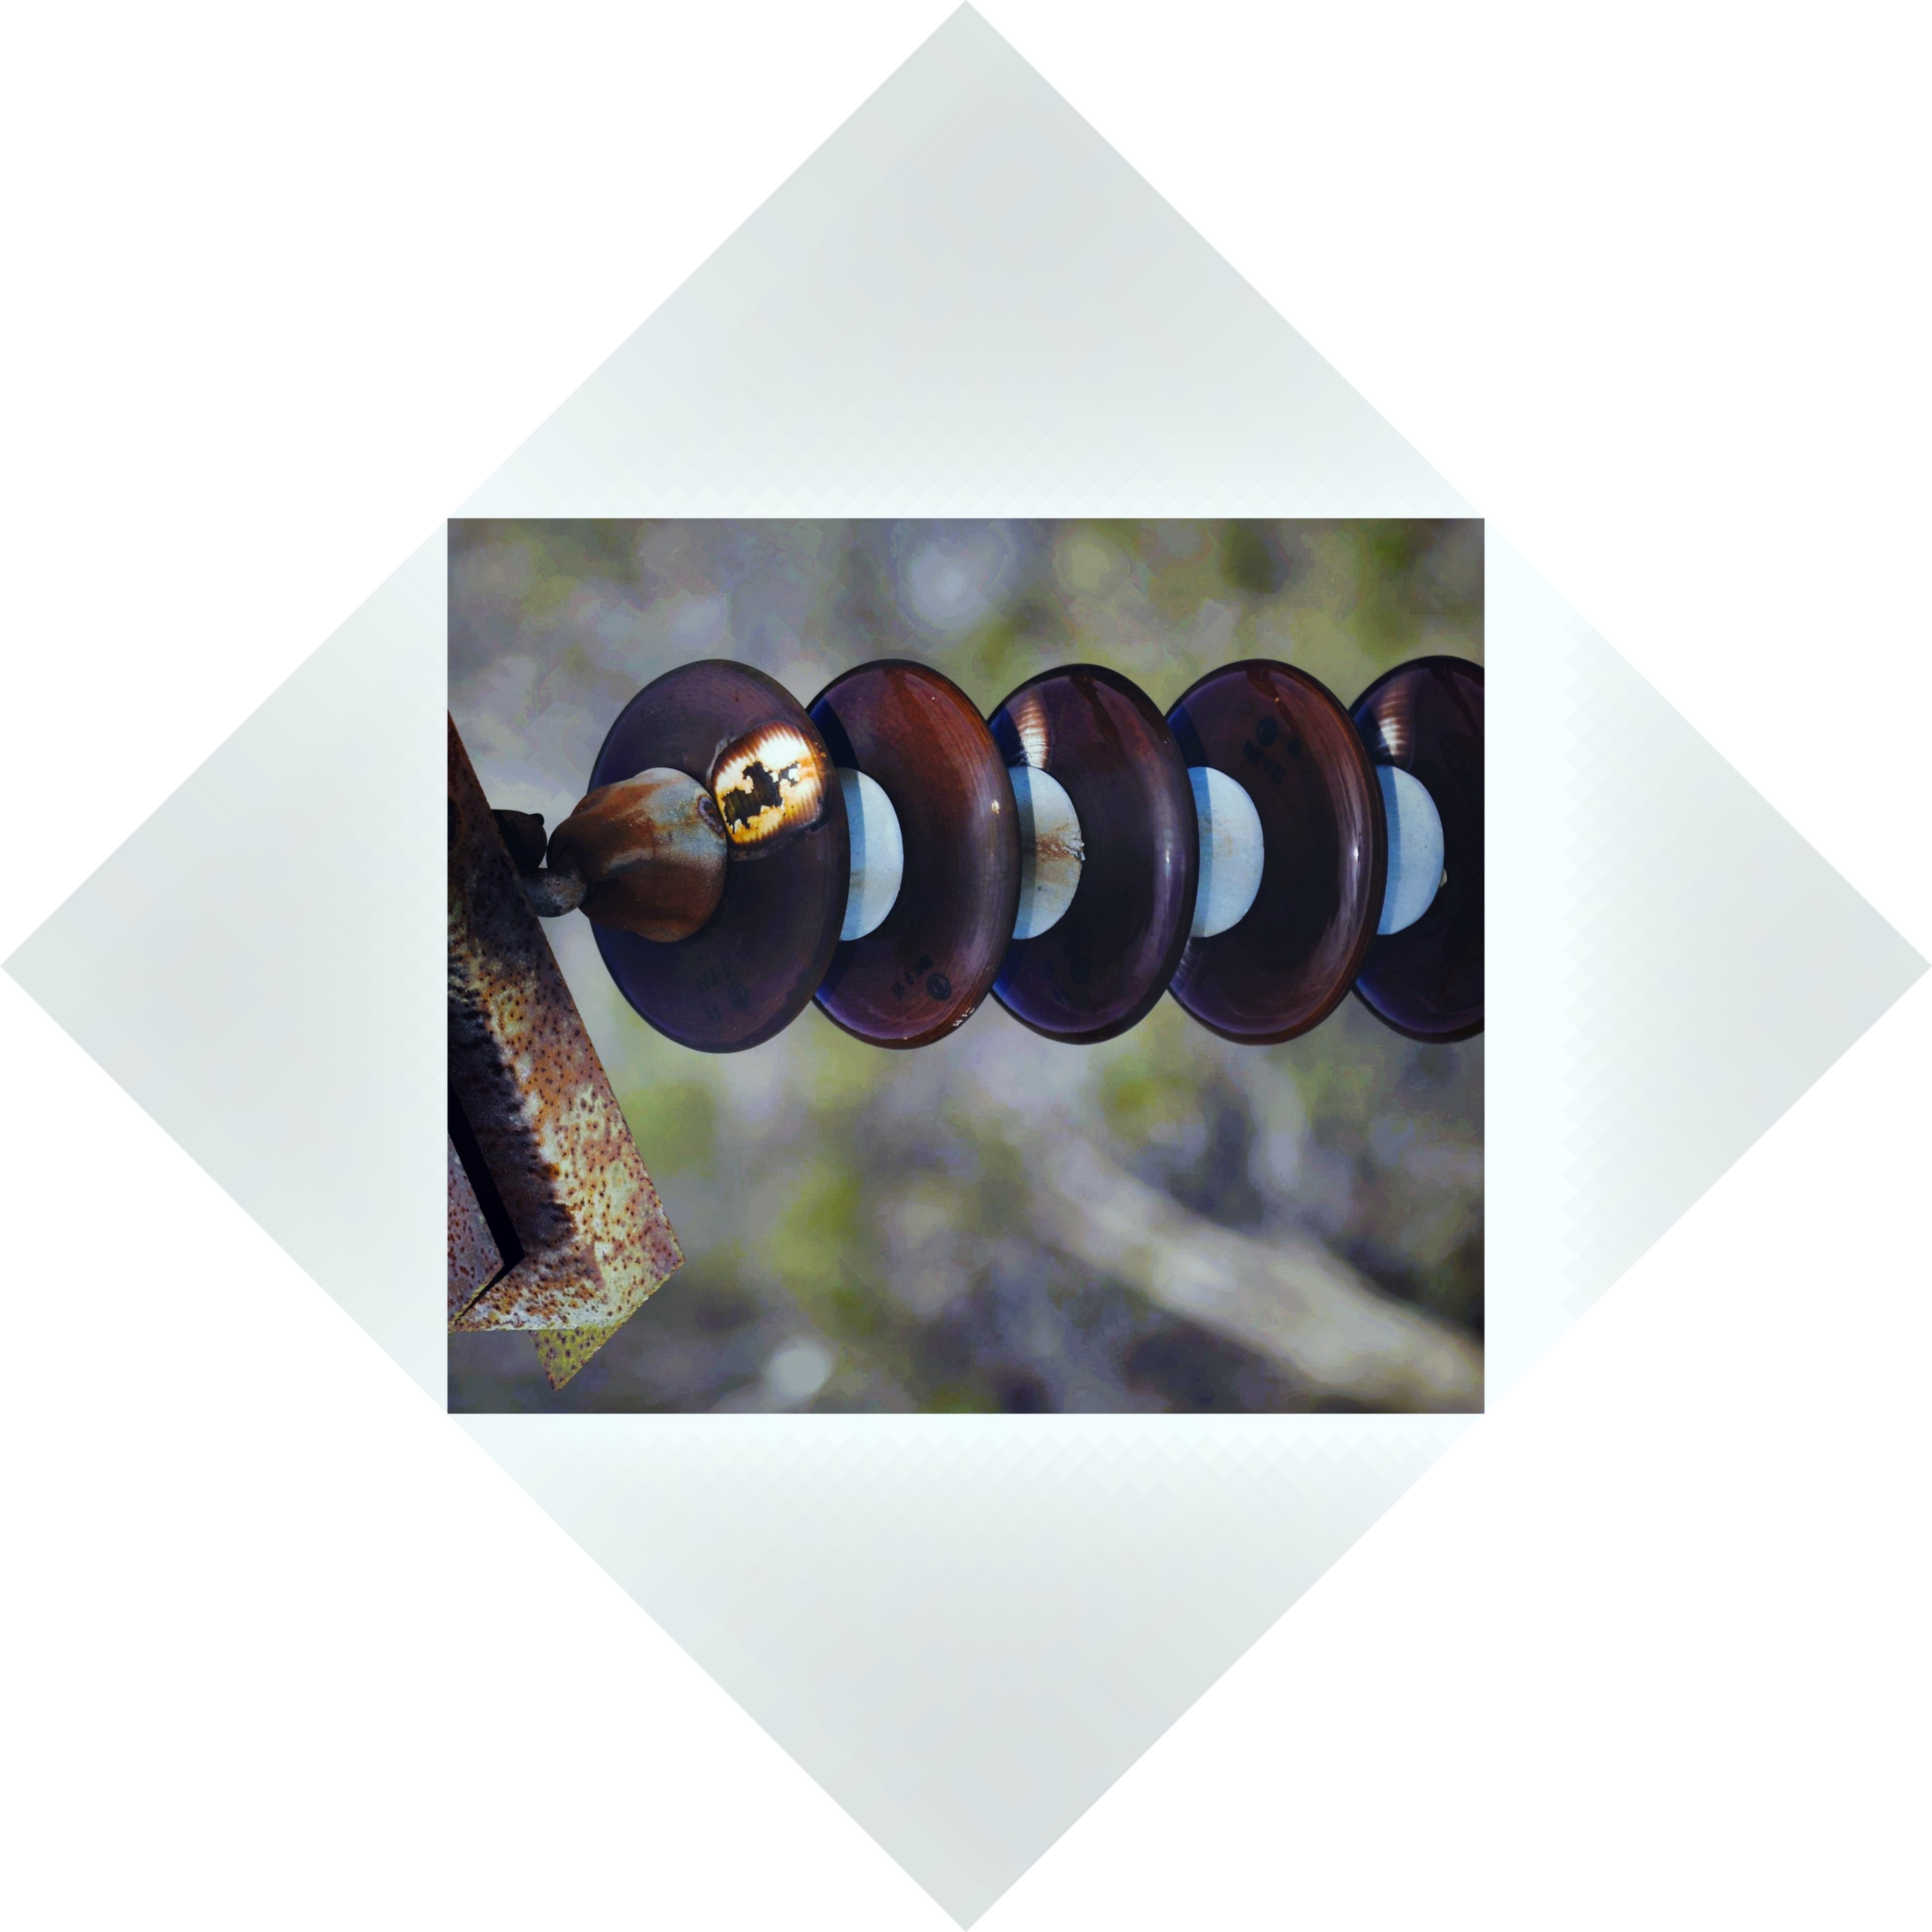Insulator flashover: (570, 633, 855, 1076)
